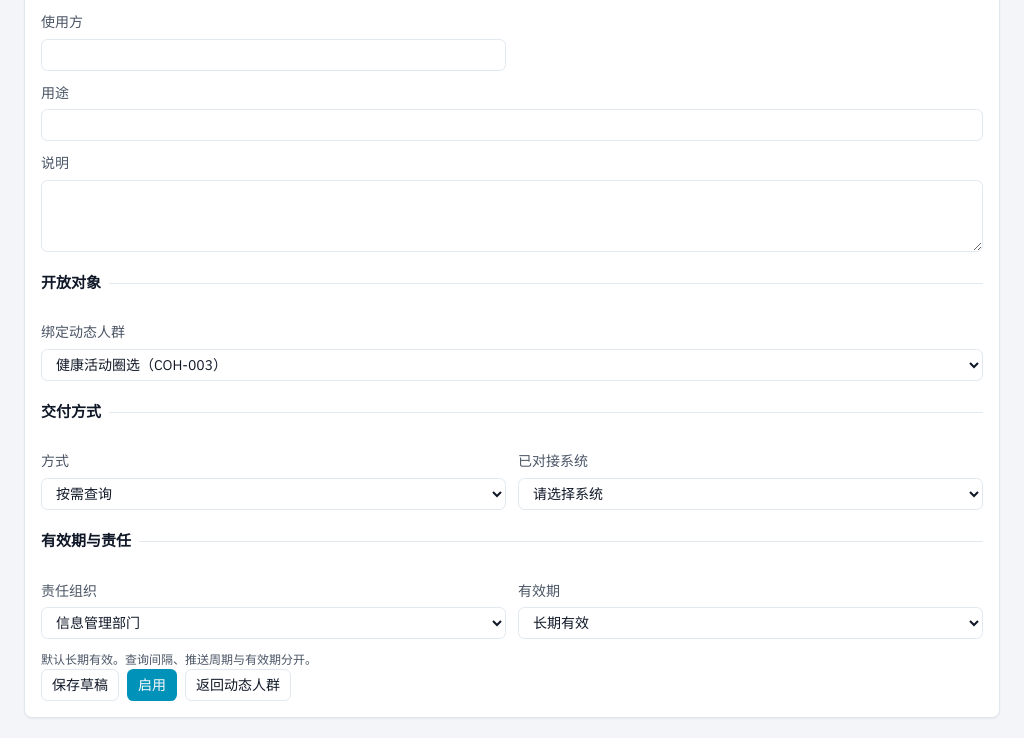
Test: 数据开放页面 › 默认使用方：空时选系统带出眼科随访组，已填不覆盖
The image size is (1024, 738).
(page scrolled)
Expected: the field with test id "consumer-input" is empty, top-left (41, 39), bottom-right (506, 71)
Select "患者服务系统（可用）" in the dropdown with test id "system-select": (750, 494) top-left (518, 478), bottom-right (983, 510)
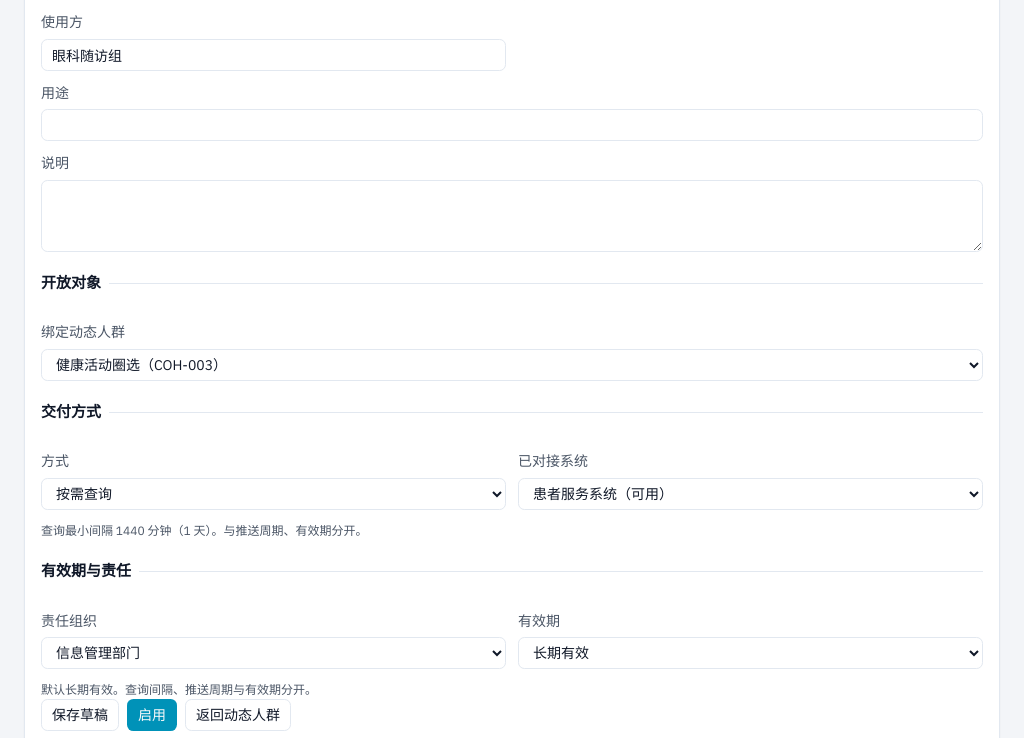
Expected: the field with test id "consumer-input" holds "眼科随访组", top-left (41, 39), bottom-right (506, 71)
